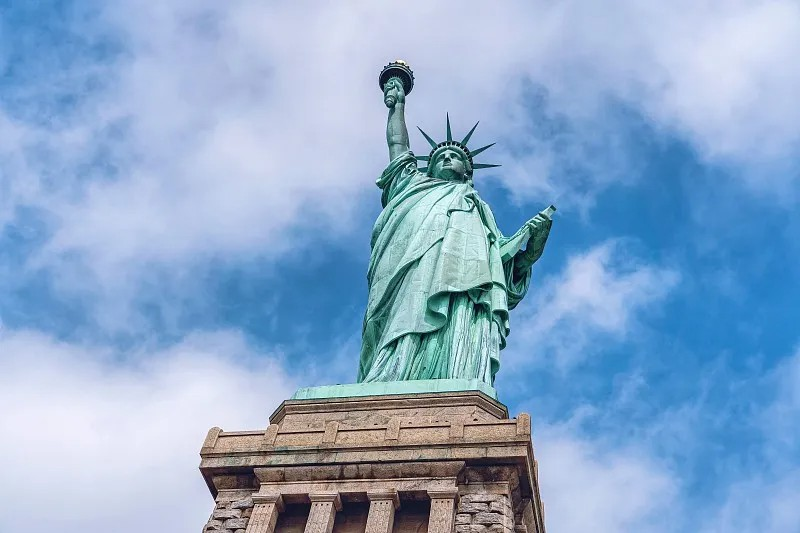SL: (267, 59, 556, 431)
